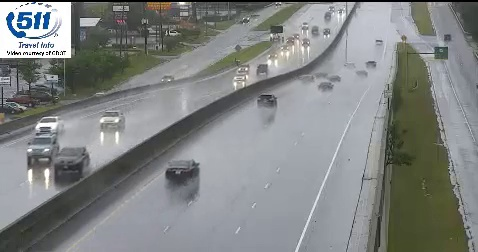car: (165, 160, 199, 181), (256, 94, 276, 110)
